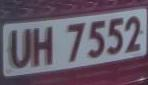2: (124, 12, 145, 59)
5: (86, 17, 109, 63), (106, 14, 127, 62)
7: (62, 19, 88, 68)
H: (31, 23, 56, 72)
U: (7, 23, 34, 73)
